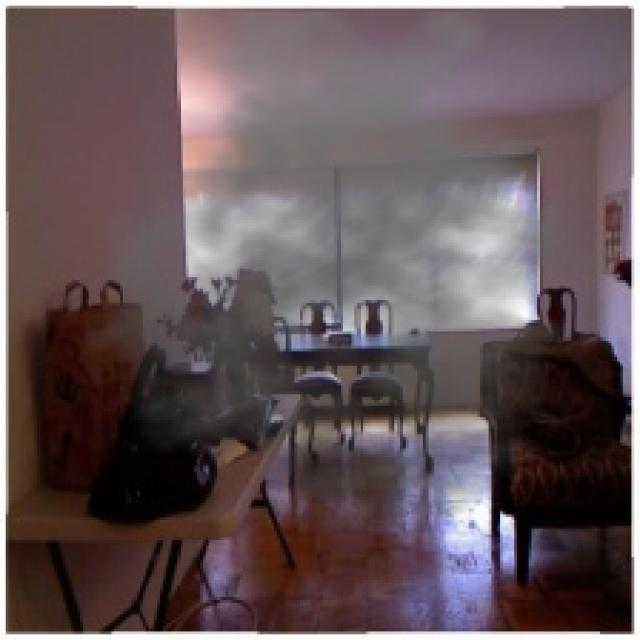Smoke: (77, 12, 637, 534)
